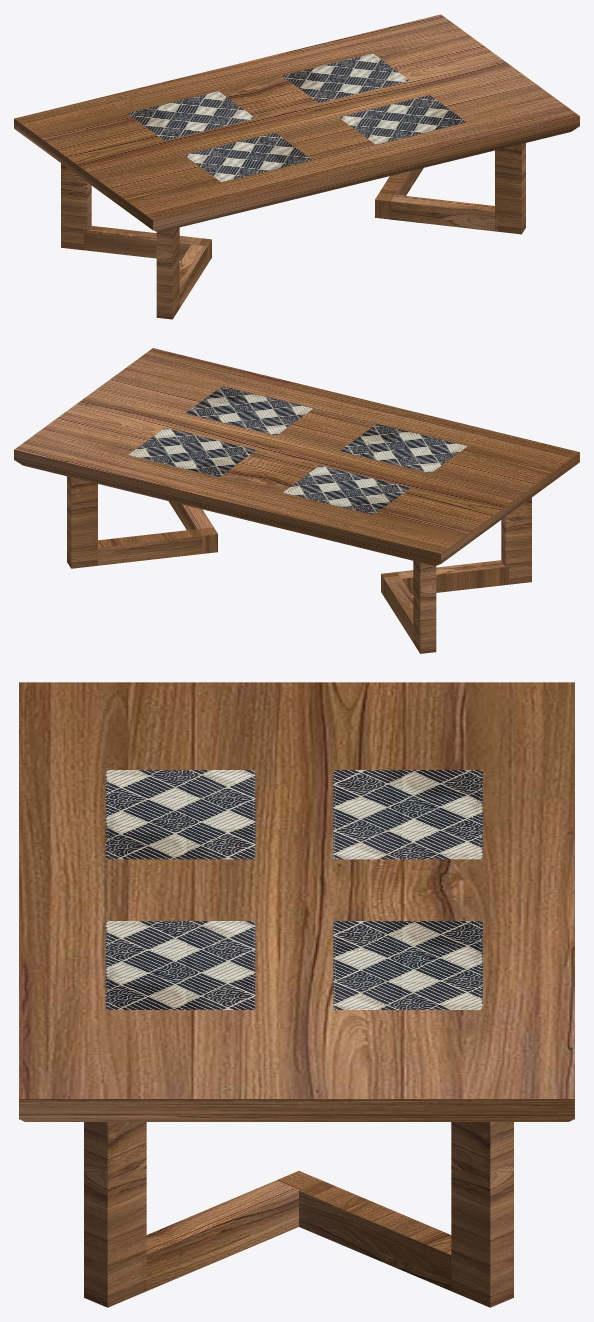
File: 1_table.fbx
3 renders of one model, top to bottom at view 1: azimuth 30°, elevation 25°; view 2: azimuth 150°, elevation 25°; view 3: azimuth 270°, elevation 25°, orthographic. The views are drawn at different scales.
Visible parts, largest first — view 1: Box001, 物件_5, Clipboard-29160ba7-b931-4a11-ab5e-aac7c49070eb.png, Clipboard-29160ba7-b931-4a11-ab5e-aac7c49070eb.png_3, Clipboard-29160ba7-b931-4a11-ab5e-aac7c49070eb.png_4, Clipboard-29160ba7-b931-4a11-ab5e-aac7c49070eb.png_2, 物件_6, 物件_1, 物件_4, 物件_2; view 2: Box001, 物件_5, Clipboard-29160ba7-b931-4a11-ab5e-aac7c49070eb.png_3, Clipboard-29160ba7-b931-4a11-ab5e-aac7c49070eb.png_4, Clipboard-29160ba7-b931-4a11-ab5e-aac7c49070eb.png_2, Clipboard-29160ba7-b931-4a11-ab5e-aac7c49070eb.png, 物件_6, 物件_3, 物件_2, 物件_4; view 3: Box001, 物件_5, Clipboard-29160ba7-b931-4a11-ab5e-aac7c49070eb.png, Clipboard-29160ba7-b931-4a11-ab5e-aac7c49070eb.png_4, Clipboard-29160ba7-b931-4a11-ab5e-aac7c49070eb.png_2, Clipboard-29160ba7-b931-4a11-ab5e-aac7c49070eb.png_3, 物件_3, 物件_1.
Boxes of the visible parts, x1,y1,x2,y2 form: Box001: [14, 14, 579, 232]; 物件_5: [375, 168, 498, 231]; Clipboard-29160ba7-b931-4a11-ab5e-aac7c49070eb.png: [184, 132, 312, 182]; Clipboard-29160ba7-b931-4a11-ab5e-aac7c49070eb.png_3: [282, 53, 409, 102]; Clipboard-29160ba7-b931-4a11-ab5e-aac7c49070eb.png_4: [127, 91, 255, 140]; Clipboard-29160ba7-b931-4a11-ab5e-aac7c49070eb.png_2: [339, 95, 466, 144]; 物件_6: [84, 226, 211, 307]; 物件_1: [495, 143, 525, 234]; 物件_4: [61, 163, 91, 250]; 物件_2: [156, 227, 179, 319]; Box001: [14, 348, 579, 565]; 物件_5: [98, 501, 217, 565]; Clipboard-29160ba7-b931-4a11-ab5e-aac7c49070eb.png_3: [128, 427, 256, 477]; Clipboard-29160ba7-b931-4a11-ab5e-aac7c49070eb.png_4: [282, 465, 410, 514]; Clipboard-29160ba7-b931-4a11-ab5e-aac7c49070eb.png_2: [185, 386, 313, 435]; Clipboard-29160ba7-b931-4a11-ab5e-aac7c49070eb.png: [339, 424, 467, 473]; 物件_6: [381, 560, 508, 643]; 物件_3: [67, 476, 97, 568]; 物件_2: [501, 497, 531, 584]; 物件_4: [413, 561, 436, 653]; Box001: [19, 682, 574, 1121]; 物件_5: [141, 1171, 456, 1292]; Clipboard-29160ba7-b931-4a11-ab5e-aac7c49070eb.png: [105, 770, 255, 859]; Clipboard-29160ba7-b931-4a11-ab5e-aac7c49070eb.png_4: [333, 770, 482, 859]; Clipboard-29160ba7-b931-4a11-ab5e-aac7c49070eb.png_2: [105, 921, 255, 1009]; Clipboard-29160ba7-b931-4a11-ab5e-aac7c49070eb.png_3: [333, 921, 482, 1009]; 物件_3: [451, 1122, 513, 1307]; 物件_1: [84, 1122, 146, 1307].
Bounding box in the file's own units: 88.7 × 50 × 23.81.
3 materials, 3 textured.
